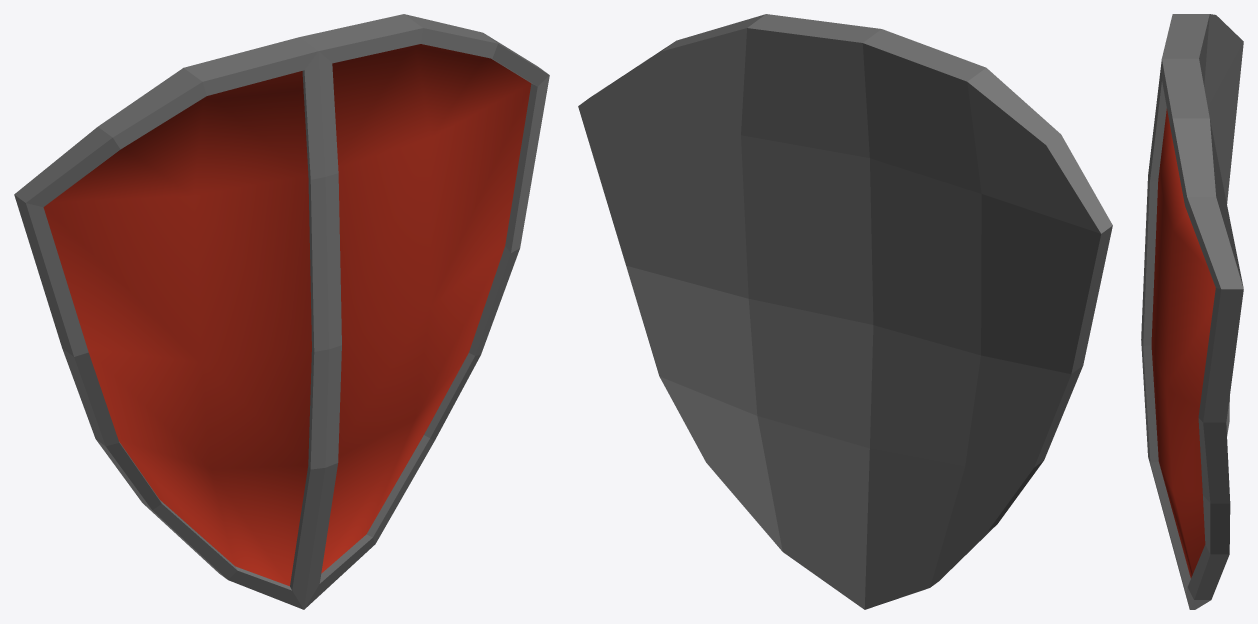
Rendered from TankEnemy_shield.fbx.
3 renders of one model, left to right at view 1: azimuth 30°, elevation 25°; view 2: azimuth 150°, elevation 25°; view 3: azimuth 270°, elevation 25°, orthographic. The views are drawn at different scales.
Visible parts, largest first — view 1: Cube.028; view 2: Cube.028; view 3: Cube.028.
Part boxes in pixels (<box>): Cube.028: <box>14,14,549,609</box>; Cube.028: <box>578,14,1112,609</box>; Cube.028: <box>1141,14,1243,609</box>.
Bounding box in the file's own units: 128 × 133 × 22.41.
